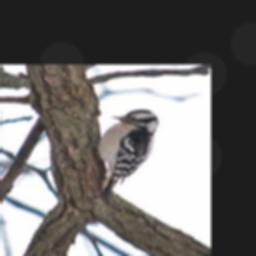Woodpecker: (82, 109, 159, 197)
